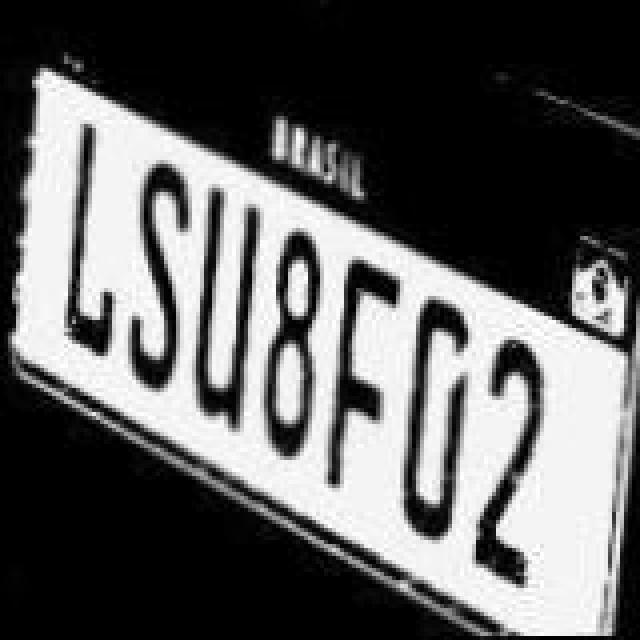2: (470, 342, 554, 590)
8: (262, 230, 322, 462)
D: (396, 296, 472, 544)
F: (320, 260, 408, 488)
L: (62, 124, 130, 356)
S: (122, 162, 190, 394)
U: (192, 186, 264, 430)
